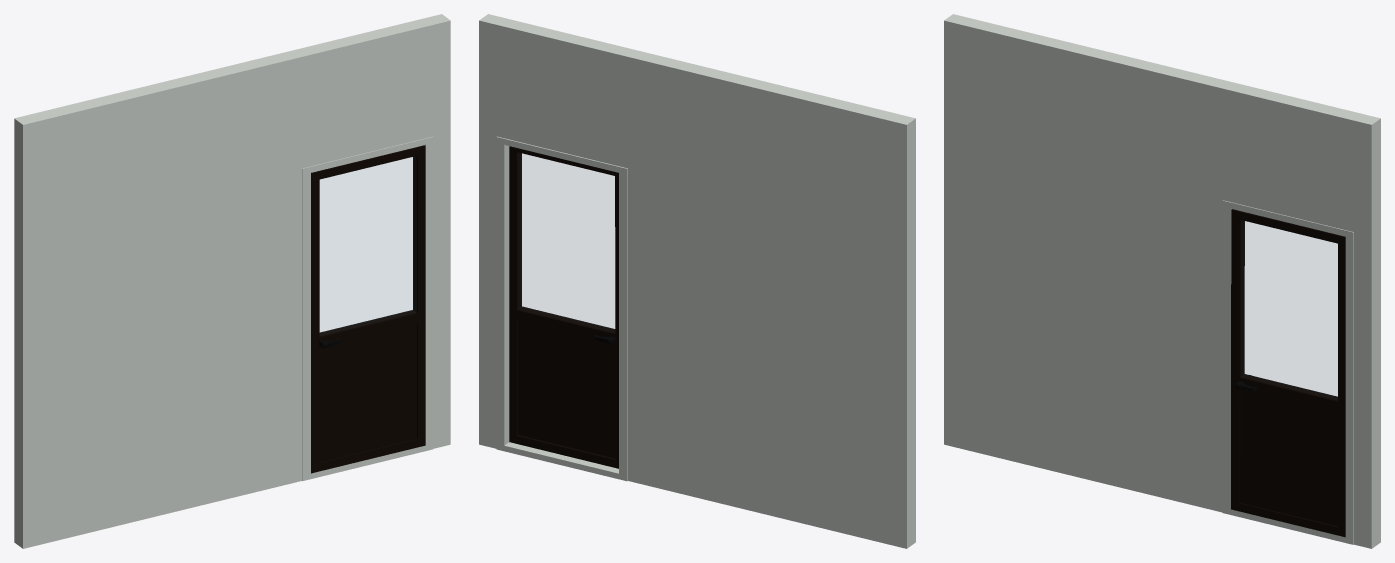
Rendered from inner_wall_room_type1.FBX.
The picture shows the model from 3 angles, left to right: view 1: azimuth 30°, elevation 25°; view 2: azimuth 150°, elevation 25°; view 3: azimuth 330°, elevation 25°; orthographic projection.
Parts seen in each view (by area): view 1: inner_wall_room_type1_006, Inner_door_type2_008; view 2: inner_wall_room_type1_006, Inner_door_type2_008; view 3: inner_wall_room_type1_006, Inner_door_type2_008.
Part boxes in pixels (left/top/right/bottom): inner_wall_room_type1_006: left=14, top=14, right=450, bottom=548; Inner_door_type2_008: left=311, top=145, right=425, bottom=473; inner_wall_room_type1_006: left=479, top=14, right=915, bottom=548; Inner_door_type2_008: left=509, top=146, right=618, bottom=468; inner_wall_room_type1_006: left=944, top=14, right=1380, bottom=548; Inner_door_type2_008: left=1231, top=209, right=1345, bottom=537.
Bounding box in the file's own units: 710 × 673 × 40.44.
Materials: 4 (1 with a texture image).
